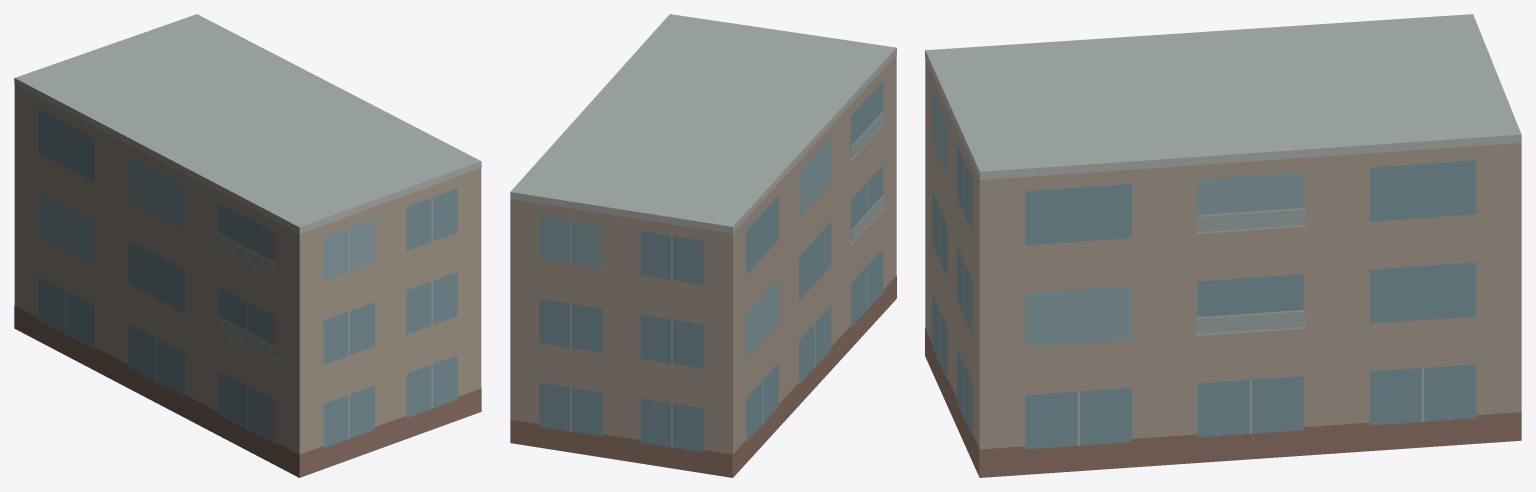
File: survey-upis-32575947.glb
3 renders of one model, left to right at view 1: azimuth 30°, elevation 25°; view 2: azimuth 150°, elevation 25°; view 3: azimuth 270°, elevation 25°, orthographic. The views are drawn at different scales.
Visible parts, largest first — view 1: survey-upis-32575947.tmp; view 2: survey-upis-32575947.tmp; view 3: survey-upis-32575947.tmp.
Boxes of the visible parts, x1=… form: survey-upis-32575947.tmp: x1=14, y1=14, x2=481, y2=477; survey-upis-32575947.tmp: x1=510, y1=14, x2=896, y2=477; survey-upis-32575947.tmp: x1=925, y1=14, x2=1521, y2=477.
Bounding box in the file's own units: 10.08 × 9.1 × 16.09.
